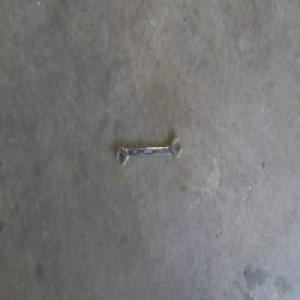Wrench: (116, 130, 182, 158)
